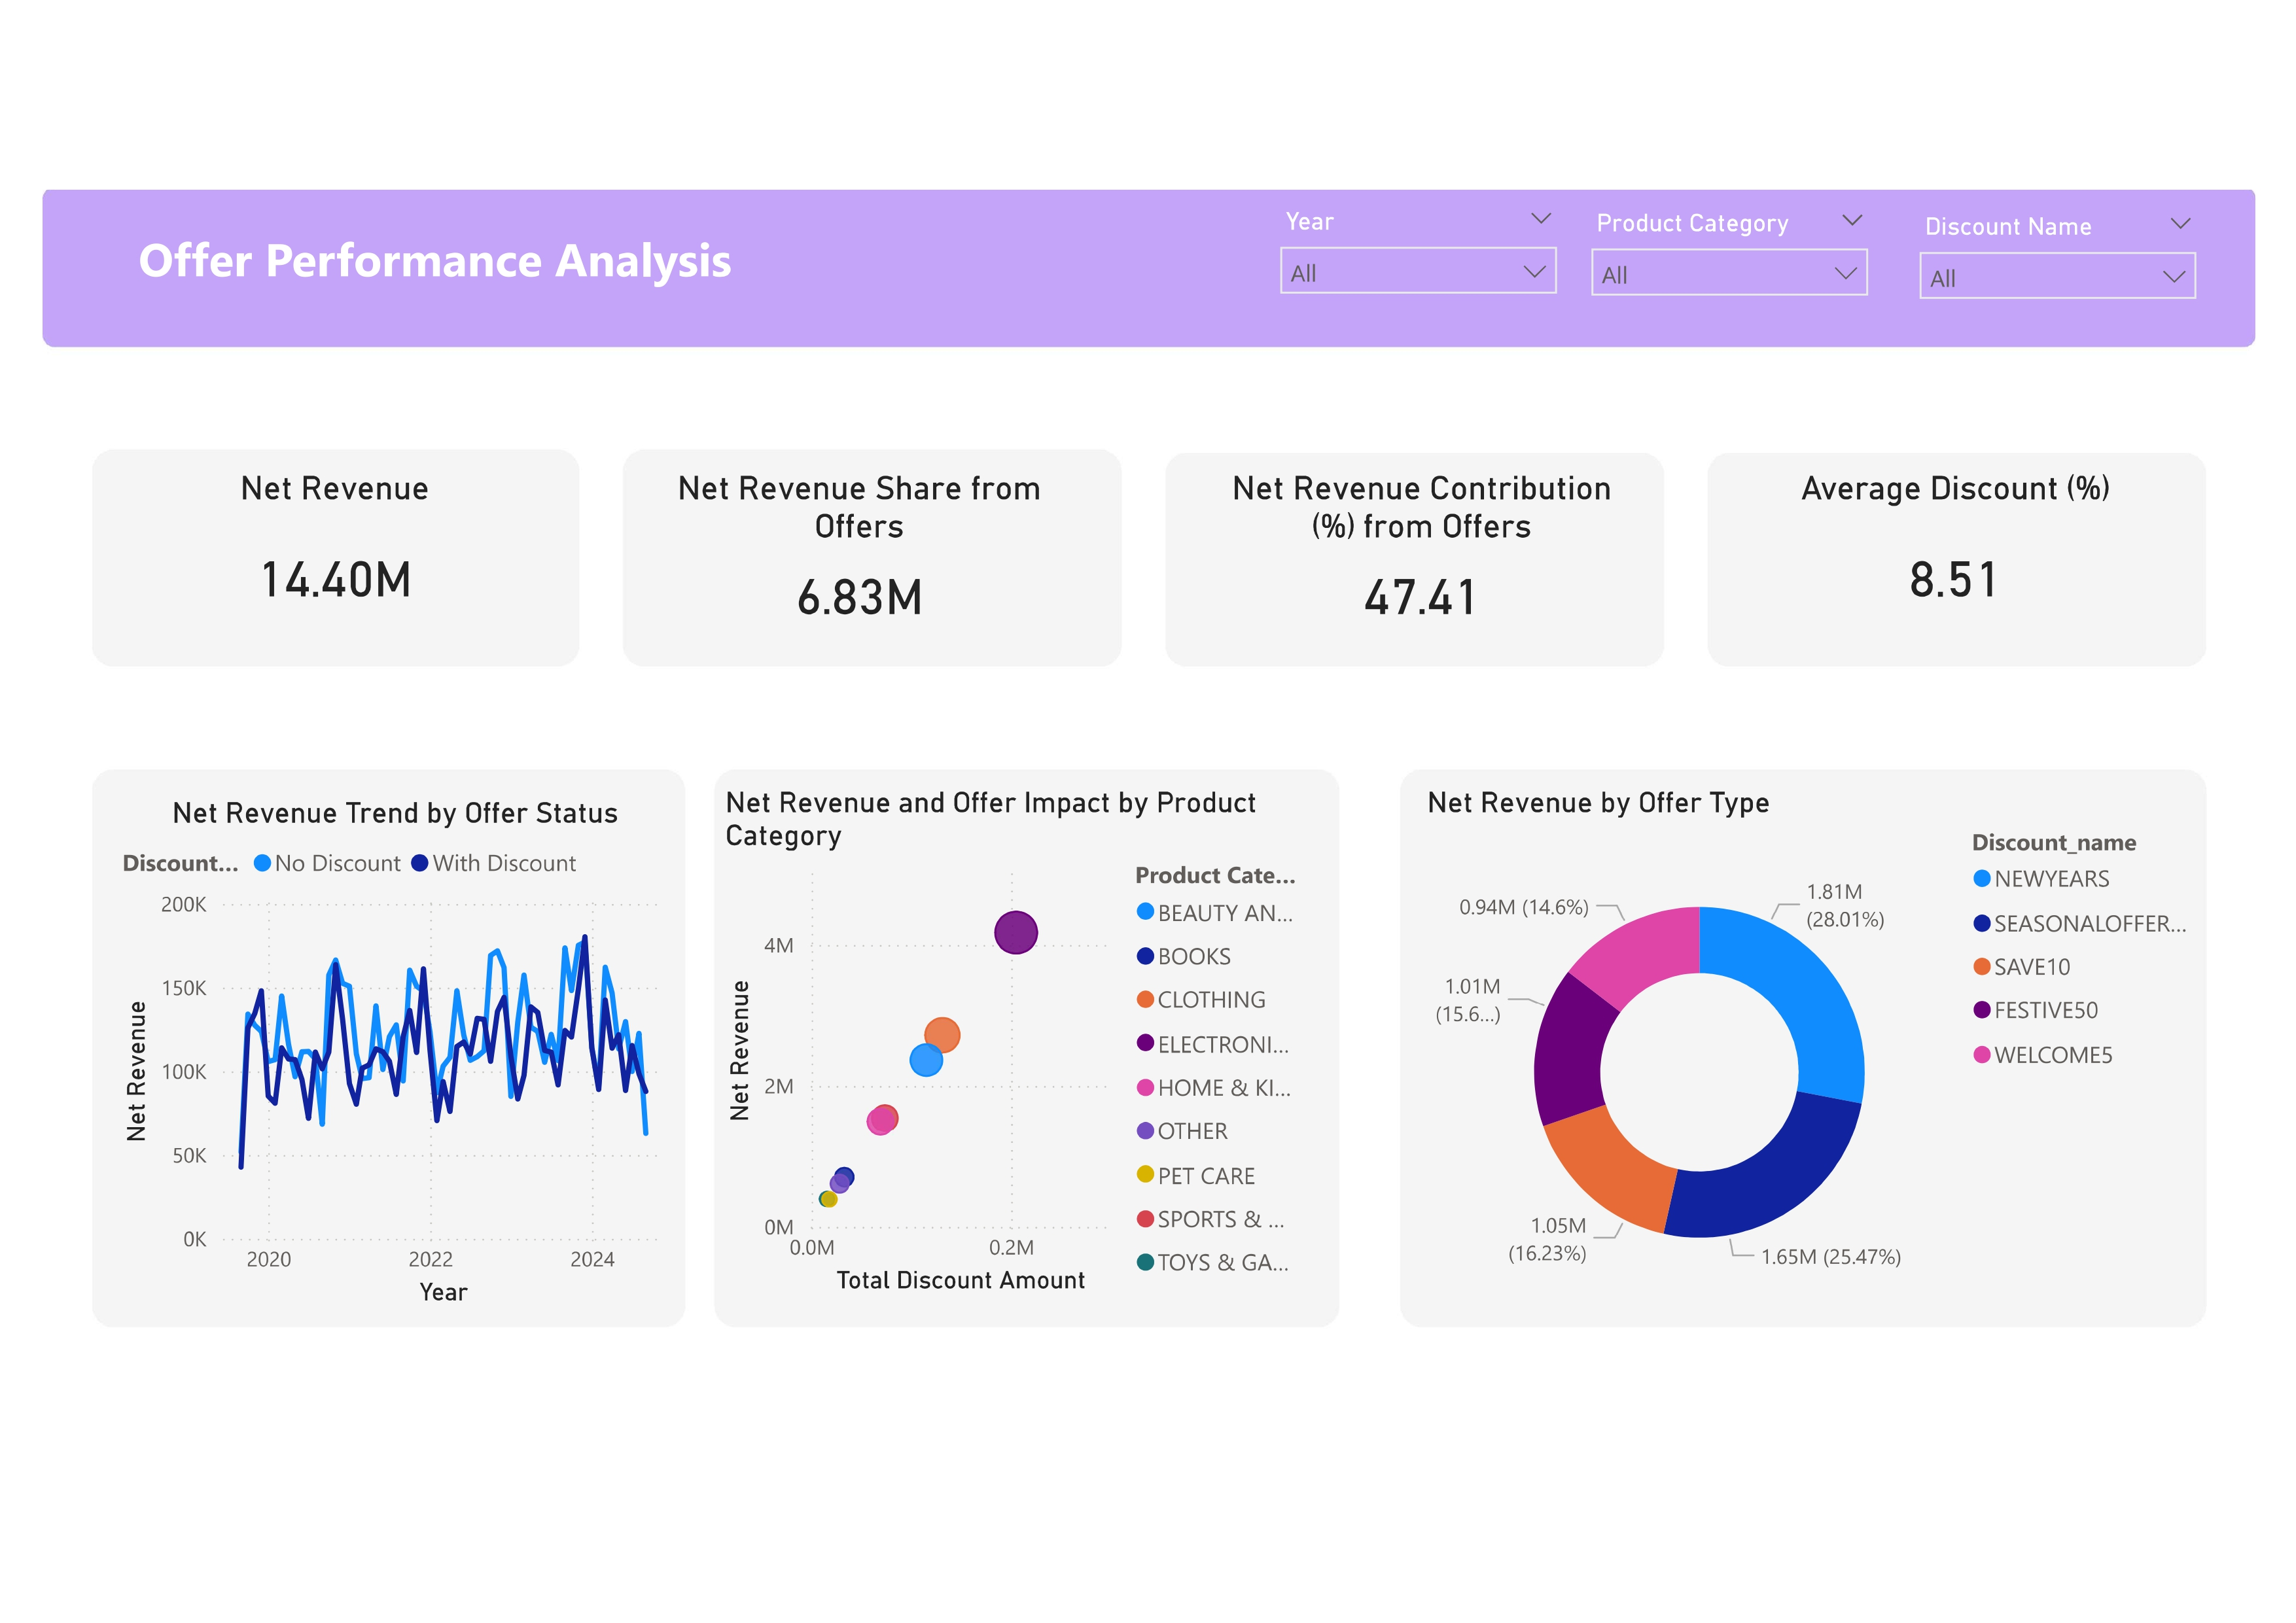

This screenshot's page, from the dashboard's own definition file:
{"tool":"powerbi","page":{"name":"Offer Performance Analysis","canvas":[1280,720],"ordinal":2},"visuals":[{"type":"textbox","box":[41.4,15.7,371.4,57.1],"z":0},{"type":"slicer","fields":{"Values":["Ecommerce_sales.Year"]},"box":[706.2,5,180,73.8],"z":1000},{"type":"slicer","fields":{"Values":["Ecommerce_sales.Product_category"]},"box":[886.2,6.2,180,73.8],"z":3000},{"type":"slicer","fields":{"Values":["Ecommerce_sales.Discount_name"]},"box":[1076.2,7.5,180,73.8],"z":4000},{"type":"card","title":"Net Revenue","fields":{"Values":["Ecommerce_sales.Total revenue"]},"box":[47.1,161.4,244.3,101.4],"z":5000},{"type":"card","title":"Net Revenue Share from Offers","fields":{"Values":["Ecommerce_sales.revenue from discount"]},"box":[351.4,161.4,242.9,101.4],"z":6000},{"type":"card","title":"Net Revenue Contribution (%) from Offers ","fields":{"Values":["Ecommerce_sales.Discount Contribution %"]},"box":[675.7,161.4,244.3,101.4],"z":7000},{"type":"card","title":"Average Discount (%)","fields":{"Values":["Avg(Ecommerce_sales.discount %)"]},"box":[984.3,161.4,244.3,101.4],"z":8000},{"type":"lineChart","title":"Net Revenue Trend by Offer Status","fields":{"Y":["Sum(Ecommerce_sales.Net_amount)"],"Category":["Ecommerce_sales.Month_Year.Variation.Date Hierarchy.Year","Ecommerce_sales.Month_Year.Variation.Date Hierarchy.Quarter","Ecommerce_sales.Month_Year.Variation.Date Hierarchy.Month"],"Series":["Ecommerce_sales.Discount_Flag"]},"box":[41.4,350,325.7,300],"z":9000},{"type":"scatterChart","title":"Net Revenue and Offer Impact by Product Category","fields":{"X":["Sum(Ecommerce_sales.Discount_amount_INR)"],"Y":["Sum(Ecommerce_sales.Net_amount)"],"Size":["Ecommerce_sales.Total orders"],"Series":["Ecommerce_sales.Product_category"]},"box":[390,343.8,348.8,300],"z":11000},{"type":"donutChart","title":"Net Revenue by Offer Type","fields":{"Category":["Ecommerce_sales.Discount_name"],"Y":["Sum(Ecommerce_sales.Net_amount)"]},"box":[796.2,343.8,460,313.8],"z":12000}]}

Visuals, with their boxes on the page's 1280x720 design canvas (x1, y1, x2, y2). These are canvas units, not pixel positions in the 2296x1623 screenshot, which may show the page scaled, cropped or inside an application window:
textbox: (left=41, top=16, right=413, bottom=73)
slicer - Ecommerce_sales.Year: (left=706, top=5, right=886, bottom=79)
slicer - Ecommerce_sales.Product_category: (left=886, top=6, right=1066, bottom=80)
slicer - Ecommerce_sales.Discount_name: (left=1076, top=8, right=1256, bottom=81)
"Net Revenue" card: (left=47, top=161, right=291, bottom=263)
"Net Revenue Share from Offers" card: (left=351, top=161, right=594, bottom=263)
"Net Revenue Contribution (%) from Offers " card: (left=676, top=161, right=920, bottom=263)
"Average Discount (%)" card: (left=984, top=161, right=1229, bottom=263)
"Net Revenue Trend by Offer Status" lineChart: (left=41, top=350, right=367, bottom=650)
"Net Revenue and Offer Impact by Product Category" scatterChart: (left=390, top=344, right=739, bottom=644)
"Net Revenue by Offer Type" donutChart: (left=796, top=344, right=1256, bottom=658)
